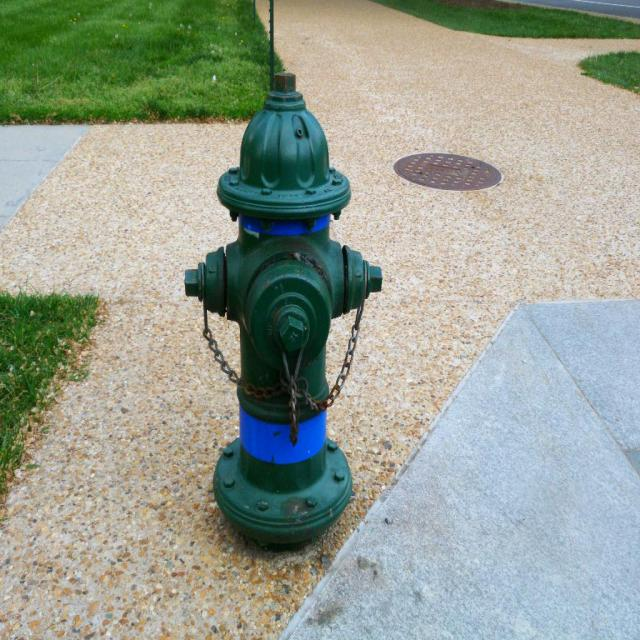fire_hydrant: (186, 73, 382, 544)
